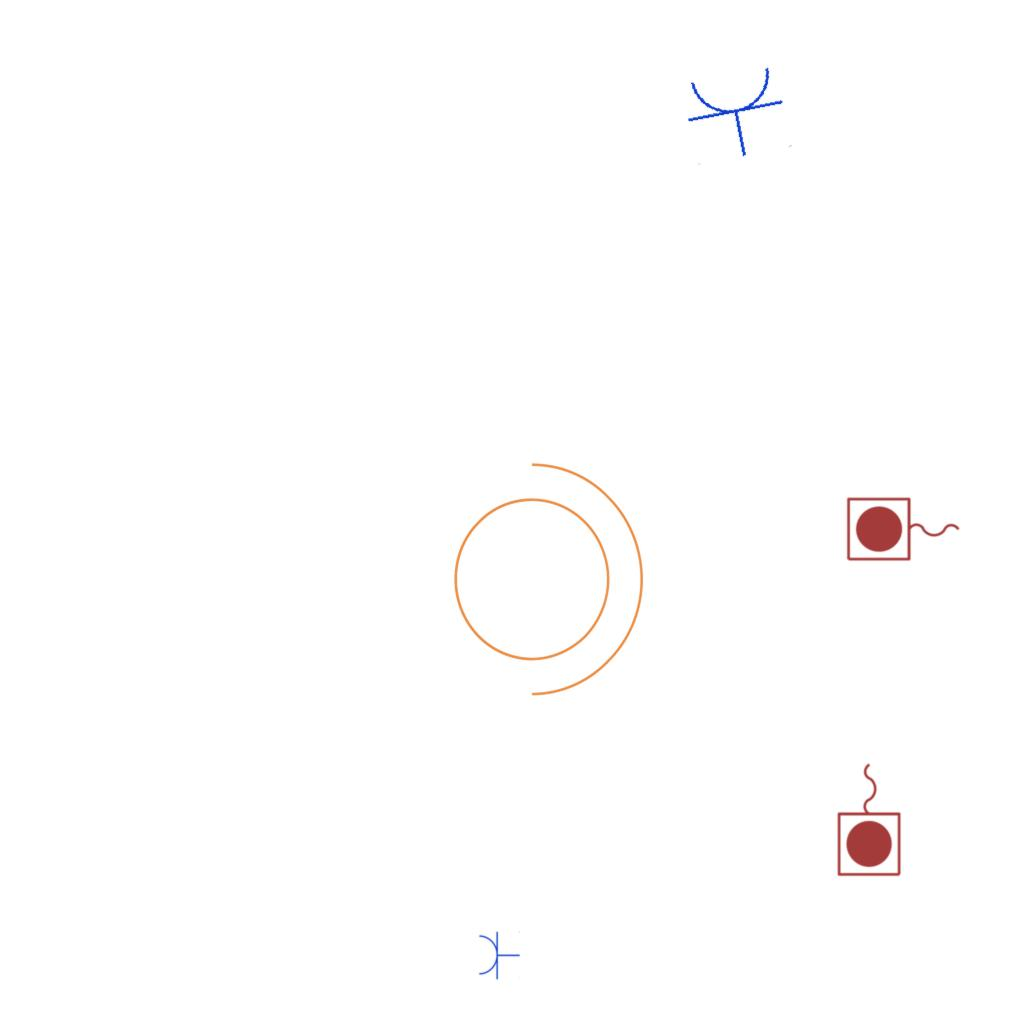Scheinwerfer_fuer_Alarmbeleuchtung: (429, 441, 654, 705)
Schukosteckdose_einfach: (679, 61, 795, 166), (477, 930, 520, 980)
Zugtaster: (834, 758, 906, 880), (843, 494, 965, 566)
